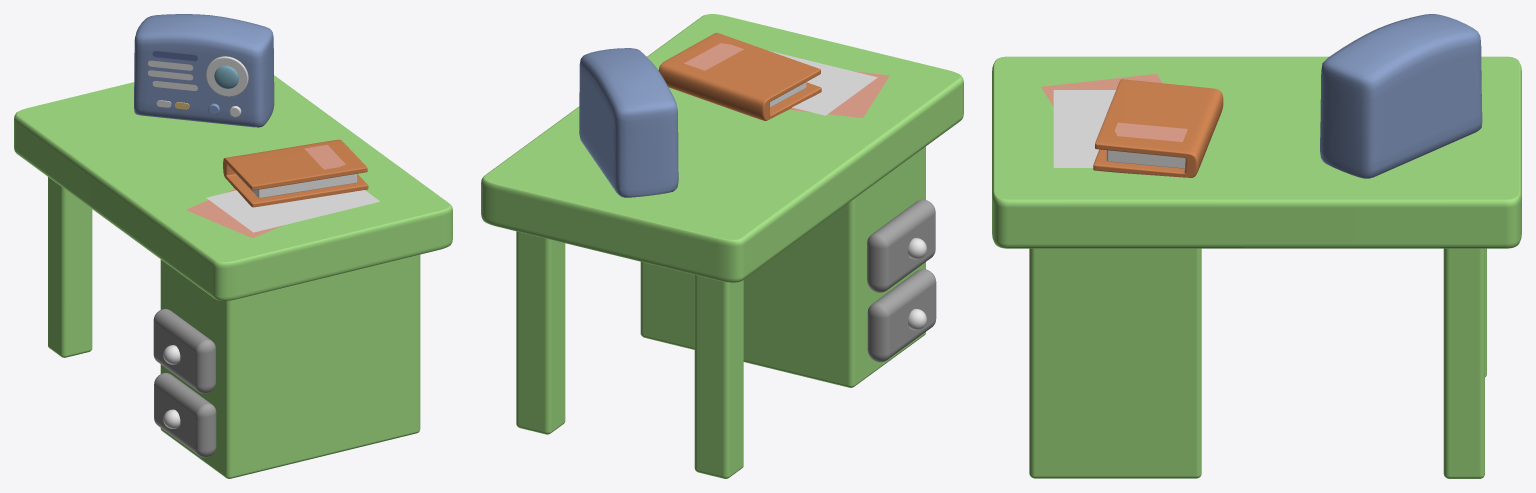
File: table.glb
3 views of the same model, side by side, from view 1: azimuth 30°, elevation 25°; view 2: azimuth 150°, elevation 25°; view 3: azimuth 270°, elevation 25° (orthographic). The views are drawn at different scales.
Visible parts, largest first — view 1: Rectangle.001, Cube.002, Cube 2.001, Cube.001, Cube 4.001, paper, Cube, Cube 2, Cube 4, paper 2, Cylinder, Rectangle (+1 smaller); view 2: Rectangle.001, Cube.002, Cube 2.001, Cube.001, Cube 3, Cube 4.001, Cube, Cube 2, paper, paper 2, Rectangle; view 3: Rectangle.001, Cube.002, Cube 2.001, Cube 3, Cube 4.001, paper, Rectangle, paper 2, Cube 4.
Boxes of the visible parts, x1,y1,x2,y2 form: Rectangle.001: (14, 75, 452, 300); Cube.002: (160, 254, 420, 478); Cube 2.001: (134, 14, 274, 127); Cube.001: (48, 177, 92, 357); Cube 4.001: (223, 139, 368, 207); paper: (206, 190, 379, 232); Cube: (154, 373, 216, 457); Cube 2: (153, 309, 215, 393); Cube 4: (236, 174, 357, 198); paper 2: (186, 189, 282, 238); Cylinder: (206, 56, 248, 96); Rectangle: (304, 145, 345, 169); Rectangle.001: (481, 14, 963, 282); Cube.002: (640, 146, 925, 387); Cube 2.001: (579, 48, 678, 197); Cube.001: (694, 275, 743, 478); Cube 3: (516, 231, 565, 434); Cube 4.001: (658, 33, 821, 120); Cube: (867, 269, 936, 362); Cube 2: (867, 199, 935, 292); paper: (768, 50, 877, 115); paper 2: (789, 71, 889, 117); Rectangle: (684, 43, 743, 70); Rectangle.001: (992, 56, 1521, 248); Cube.002: (1029, 248, 1201, 478); Cube 2.001: (1320, 14, 1482, 178); Cube 3: (1443, 248, 1484, 478); Cube 4.001: (1093, 79, 1223, 177); paper: (1053, 90, 1115, 167); Rectangle: (1114, 122, 1187, 141); paper 2: (1041, 74, 1162, 106); Cube 4: (1106, 150, 1185, 168).
Bounding box in the file's own units: 1.98 × 2.46 × 2.94.
